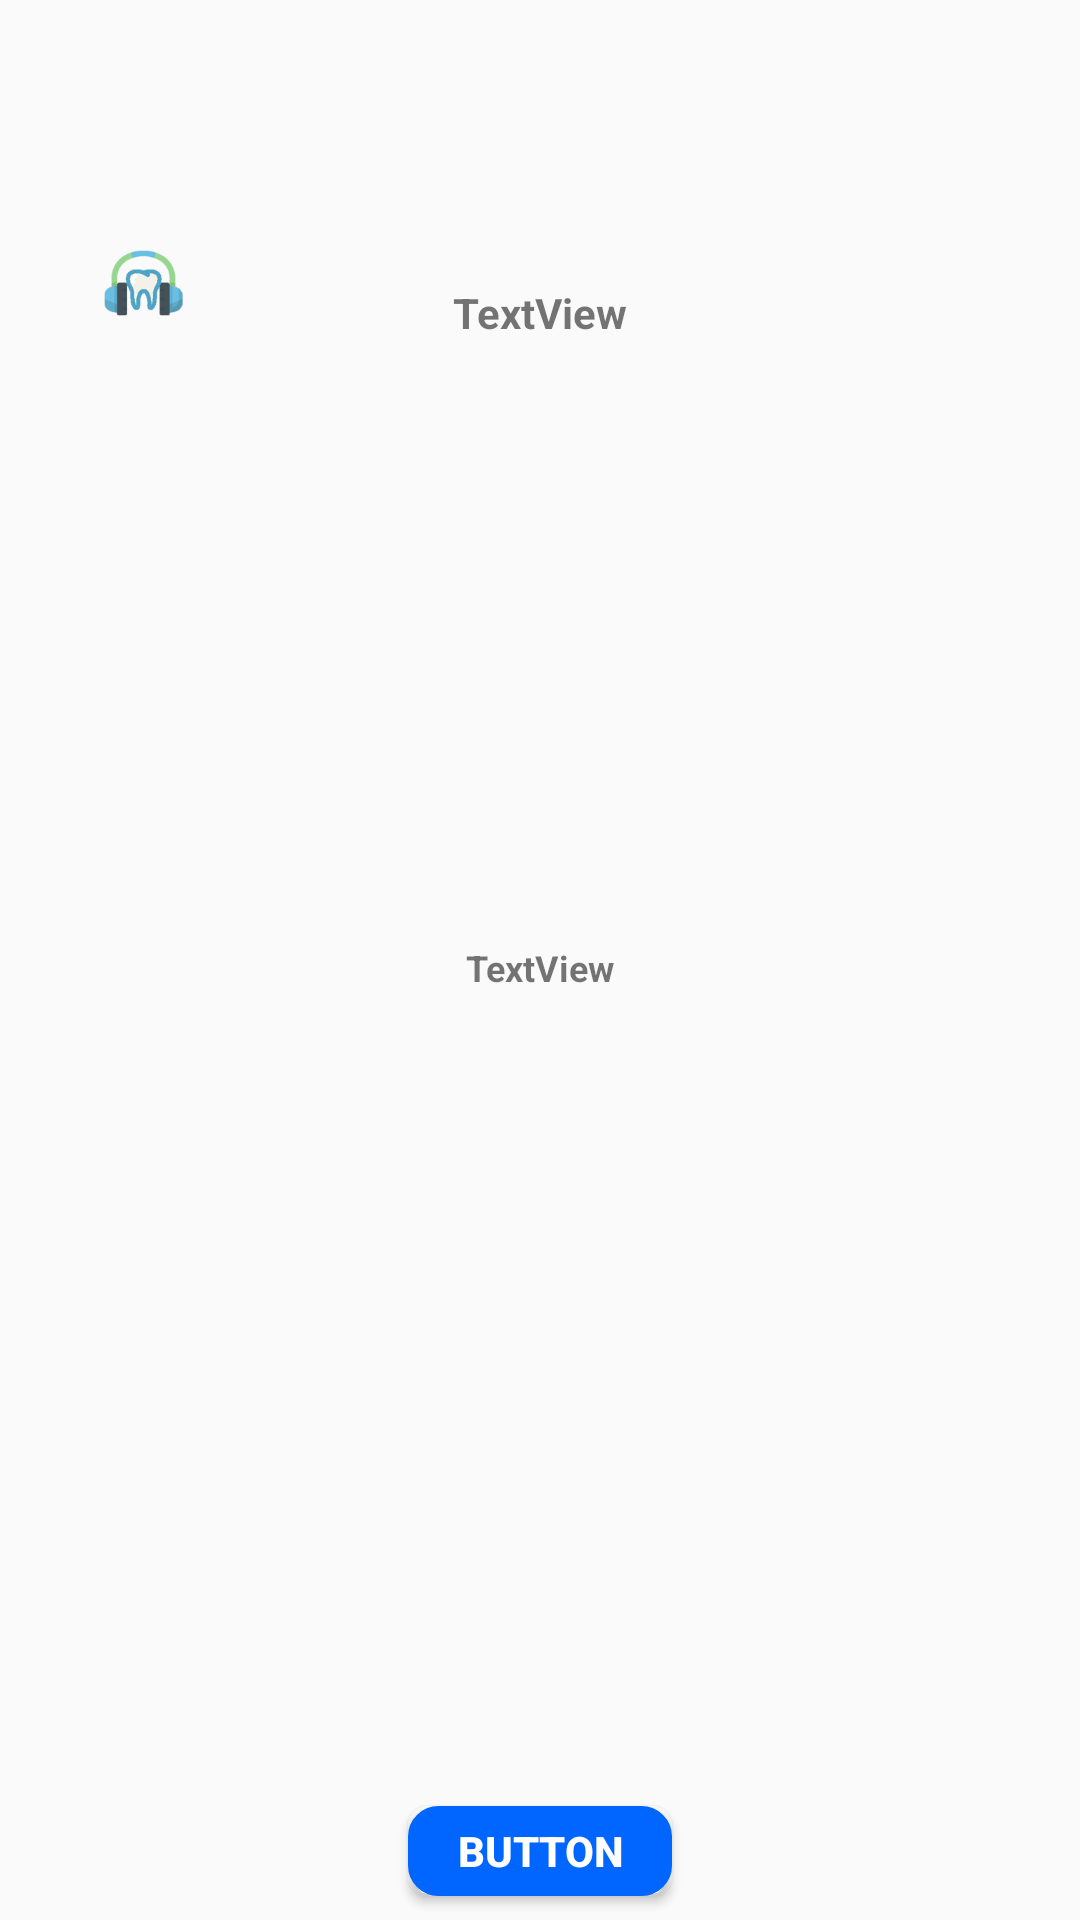

Where icons sit on this 1080x1920 app screen, as [x1,y1,x2,y2]:
tooth: [104,250,183,316]
